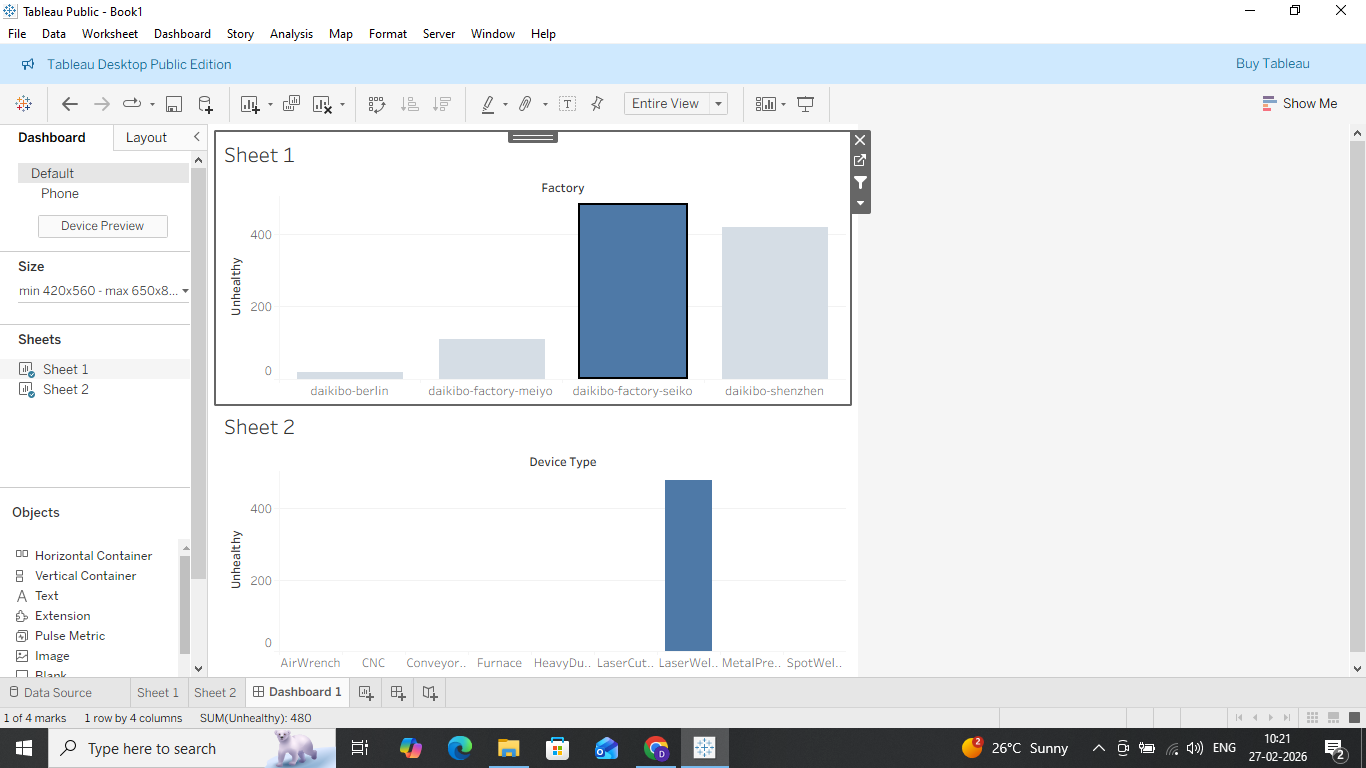

Layout of this report page (visuals, bound fields, positions):
{"tool":"tableau","page":{"name":"Dashboard 1","canvas":[650,860],"ordinal":0},"visuals":[{"type":"worksheet","title":"Sheet 1","mark":"Automatic","rows":["Calculation_0670470461521920"],"cols":["factory"],"box":[8,12.3,634,417.7]},{"type":"worksheet","title":"Sheet 2","mark":"Automatic","rows":["Calculation_0670470461521920"],"cols":["deviceType"],"box":[8,430,634,417.7]}]}

Visuals, with their boxes on the page's 650x860 design canvas (x1, y1, x2, y2). These are canvas units, not pixel positions in the 1366x768 screenshot, which may show the page scaled, cropped or inside an application window:
"Sheet 1" worksheet: locate(8, 12, 642, 430)
"Sheet 2" worksheet: locate(8, 430, 642, 848)
